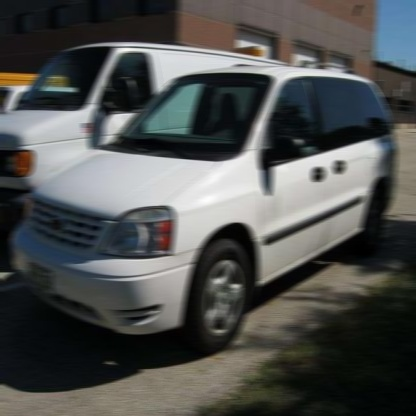Vehicle: (11, 61, 396, 352)
